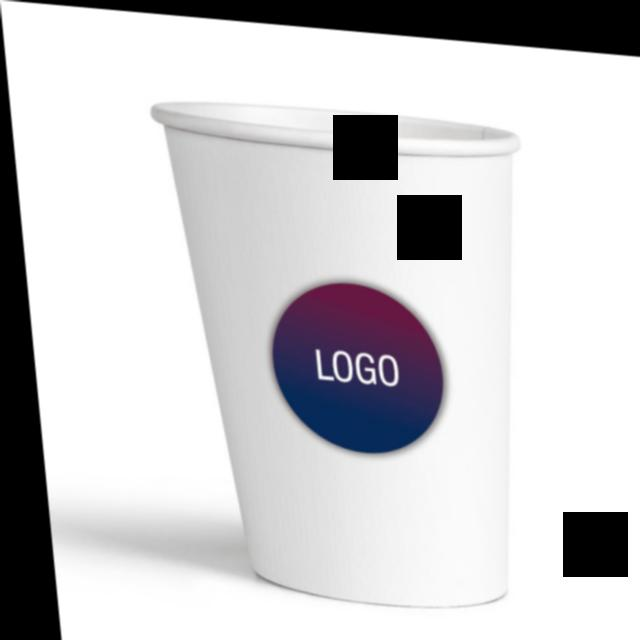karton-bardak: (139, 83, 580, 628)
